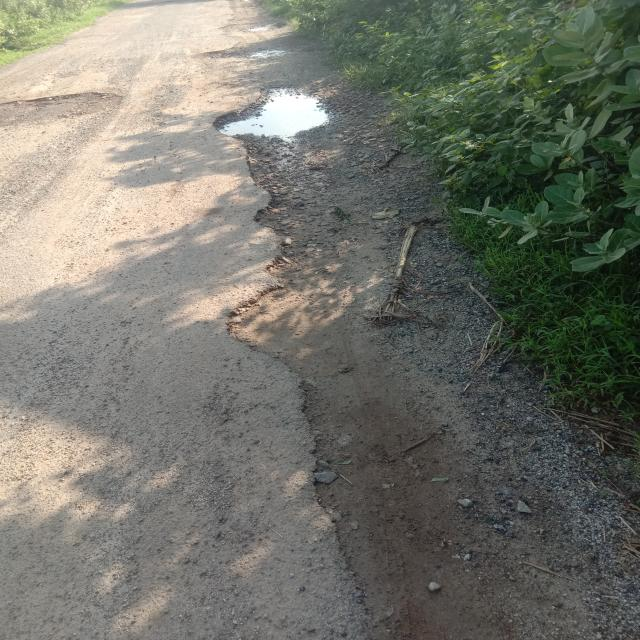potholes: (0, 64, 121, 145), (208, 81, 330, 143)
